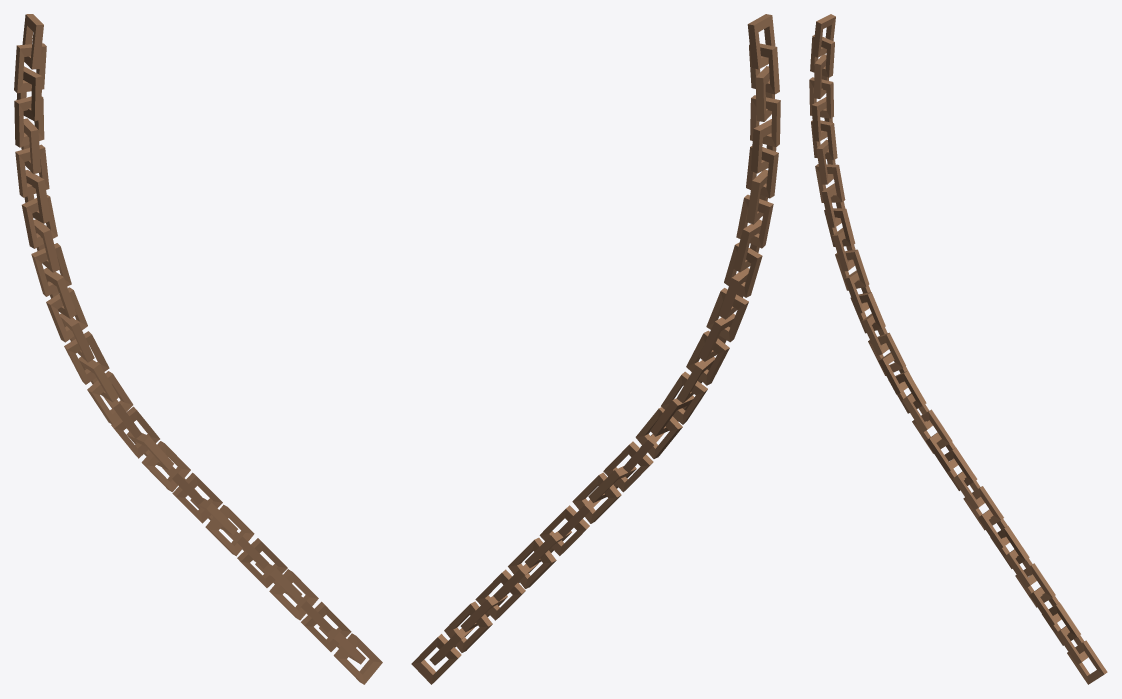
File: Chain_01.fbx
The picture shows the model from 3 angles, left to right: view 1: azimuth 30°, elevation 25°; view 2: azimuth 150°, elevation 25°; view 3: azimuth 330°, elevation 25°; orthographic projection. The views are drawn at different scales.
Visible parts, largest first — view 1: Chain_01; view 2: Chain_01; view 3: Chain_01.
Part boxes in pixels (box(x1,y1,x2,y2)): Chain_01: box(14, 14, 382, 684); Chain_01: box(411, 14, 780, 684); Chain_01: box(809, 14, 1107, 684).
Size of the model in its own units: 259 by 505 by 18.59.
